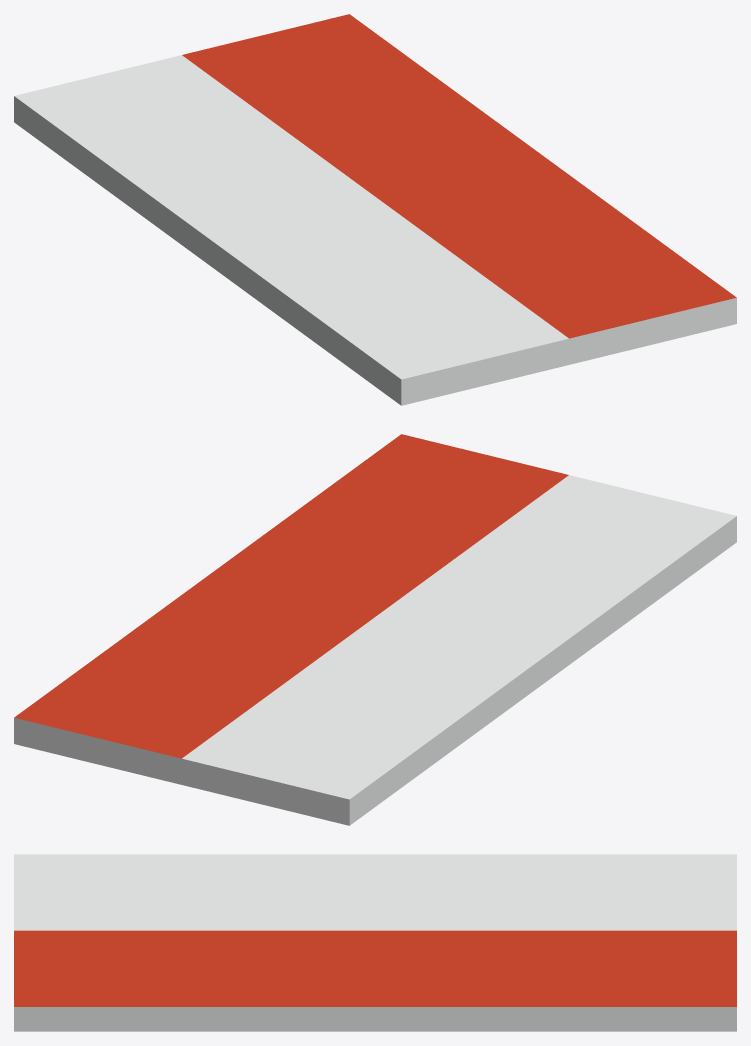
File: dem duong 2.fbx
3 views of the same model, one above another, from view 1: azimuth 30°, elevation 25°; view 2: azimuth 150°, elevation 25°; view 3: azimuth 270°, elevation 25° (orthographic). The views are drawn at different scales.
Parts seen in each view (by area): view 1: dem_duong2; view 2: dem_duong2; view 3: dem_duong2.
Part boxes in pixels (<box>): dem_duong2: <box>14,14,736,405</box>; dem_duong2: <box>14,434,736,825</box>; dem_duong2: <box>14,854,736,1031</box>.
Bounding box in the file's own units: 20 × 1.5 × 40.
1 material, 1 textured.
